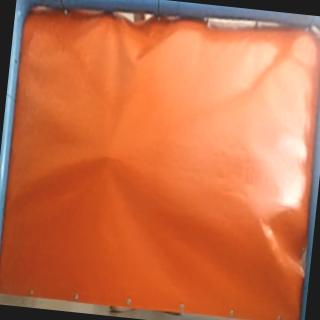Hit-hRxx: (96, 147, 114, 162)
